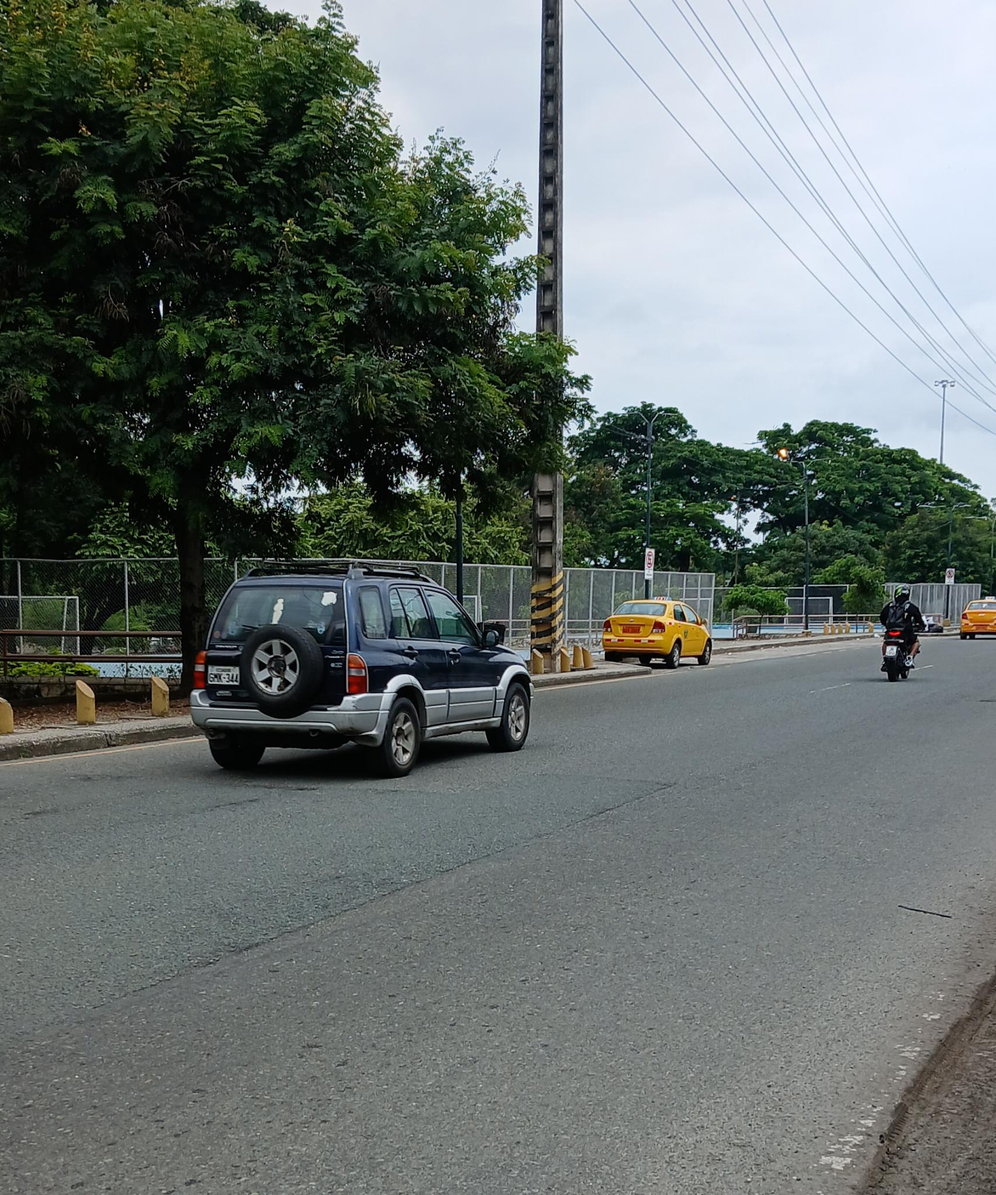license_plate: (206, 666, 240, 684), (885, 645, 898, 656), (622, 625, 639, 632)
